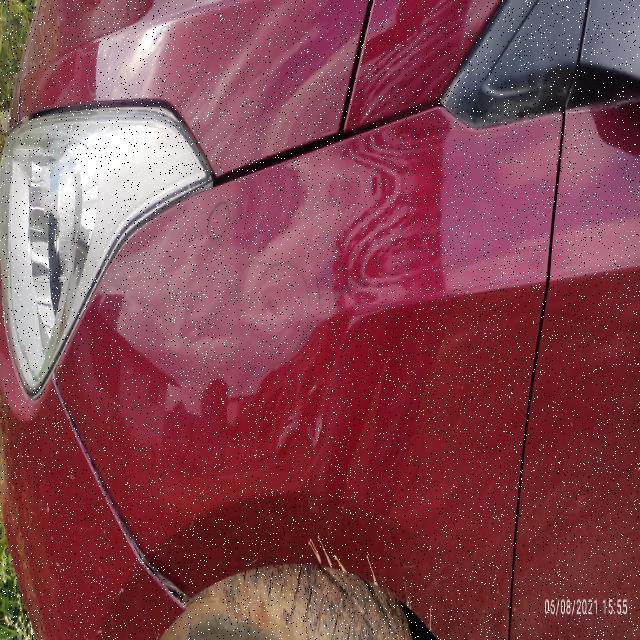fender-dent: (121, 165, 542, 639)
